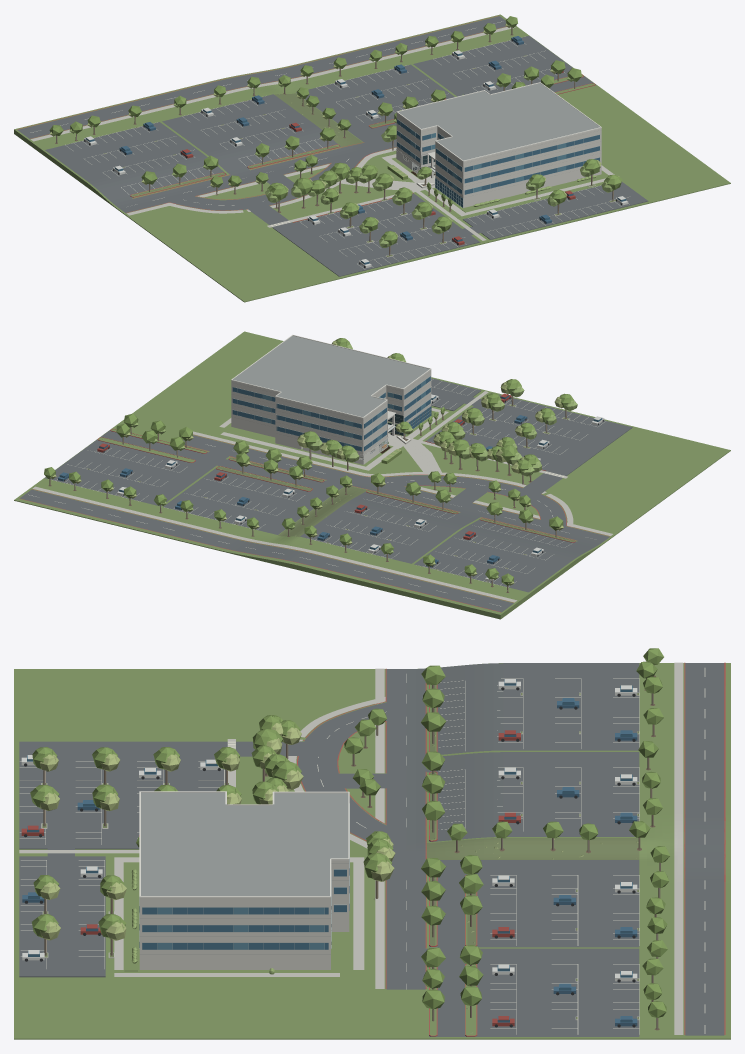
The model's file is lab.glb.
The picture shows the model from 3 angles, top to bottom: view 1: azimuth 30°, elevation 25°; view 2: azimuth 150°, elevation 25°; view 3: azimuth 270°, elevation 25°; orthographic projection. The views are drawn at different scales.
Parts seen in each view (by area): view 1: ExteriorSolid | EXT Asphalt, ExteriorSolid | EXT Grass, ExteriorDetail | EXT Leaves olive, ExteriorSolid | EXT Roof gravel, ExteriorSolid | EXT Pale limestone, ExteriorSolid | EXT Concrete, ExteriorDetail | EXT Blue glazing, ExteriorDetail | EXT Leaves sage, ExteriorDetail | EXT Road paint, ExteriorDetail | EXT Window frames, ExteriorDetail | EXT Grass, ExteriorSolid | EXT Landscape bed (+9 smaller); view 2: ExteriorSolid | EXT Asphalt, ExteriorSolid | EXT Grass, ExteriorDetail | EXT Leaves olive, ExteriorSolid | EXT Roof gravel, ExteriorSolid | EXT Concrete, ExteriorSolid | EXT Pale limestone, ExteriorDetail | EXT Blue glazing, ExteriorDetail | EXT Leaves sage, ExteriorDetail | EXT Leaves light, ExteriorDetail | EXT Road paint, ExteriorDetail | EXT Landscape worn curb, ExteriorDetail | EXT Window frames (+7 smaller); view 3: ExteriorSolid | EXT Asphalt, ExteriorSolid | EXT Grass, ExteriorSolid | EXT Roof gravel, ExteriorDetail | EXT Leaves olive, ExteriorSolid | EXT Pale limestone, ExteriorSolid | EXT Concrete, ExteriorDetail | EXT Blue glazing, ExteriorDetail | EXT Road paint, ExteriorDetail | EXT Leaves light, ExteriorSolid | EXT Landscape bed, ExteriorDetail | EXT Grass, ExteriorDetail | EXT Landscape worn curb (+12 smaller).
Part boxes in pixels (x1,y1,x2,y2): ExteriorSolid | EXT Asphalt: (17, 16, 648, 276); ExteriorSolid | EXT Grass: (14, 14, 730, 302); ExteriorDetail | EXT Leaves olive: (49, 16, 622, 245); ExteriorSolid | EXT Roof gravel: (398, 83, 599, 160); ExteriorSolid | EXT Pale limestone: (396, 113, 601, 207); ExteriorSolid | EXT Concrete: (31, 27, 615, 257); ExteriorDetail | EXT Blue glazing: (85, 37, 626, 264); ExteriorDetail | EXT Leaves sage: (69, 50, 613, 247); ExteriorDetail | EXT Road paint: (30, 21, 629, 269); ExteriorDetail | EXT Window frames: (397, 119, 600, 207); ExteriorDetail | EXT Grass: (131, 75, 605, 218); ExteriorSolid | EXT Landscape bed: (274, 93, 363, 147); ExteriorSolid | EXT Asphalt: (20, 378, 632, 612); ExteriorSolid | EXT Grass: (14, 331, 730, 619); ExteriorDetail | EXT Leaves olive: (44, 338, 574, 585); ExteriorSolid | EXT Roof gravel: (233, 336, 429, 416); ExteriorSolid | EXT Concrete: (32, 391, 612, 602); ExteriorSolid | EXT Pale limestone: (231, 370, 431, 454); ExteriorDetail | EXT Blue glazing: (59, 376, 602, 577); ExteriorDetail | EXT Leaves sage: (131, 344, 577, 579); ExteriorDetail | EXT Leaves light: (50, 340, 563, 585); ExteriorDetail | EXT Road paint: (28, 379, 605, 606); ExteriorDetail | EXT Landscape worn curb: (19, 434, 609, 602); ExteriorDetail | EXT Window frames: (232, 376, 431, 451); ExteriorSolid | EXT Asphalt: (19, 663, 724, 1036); ExteriorSolid | EXT Grass: (14, 663, 730, 1039); ExteriorSolid | EXT Roof gravel: (141, 792, 348, 895); ExteriorDetail | EXT Leaves olive: (30, 648, 669, 1017); ExteriorSolid | EXT Pale limestone: (139, 860, 349, 969); ExteriorSolid | EXT Concrete: (19, 662, 683, 1034); ExteriorDetail | EXT Blue glazing: (27, 679, 632, 1022); ExteriorDetail | EXT Road paint: (20, 668, 705, 1034); ExteriorDetail | EXT Leaves light: (40, 723, 395, 940); ExteriorSolid | EXT Landscape bed: (425, 838, 639, 859); ExteriorDetail | EXT Grass: (114, 684, 476, 1035); ExteriorDetail | EXT Landscape worn curb: (297, 662, 725, 1034).
Bounding box in the file's own units: 161 × 17.88 × 132.
